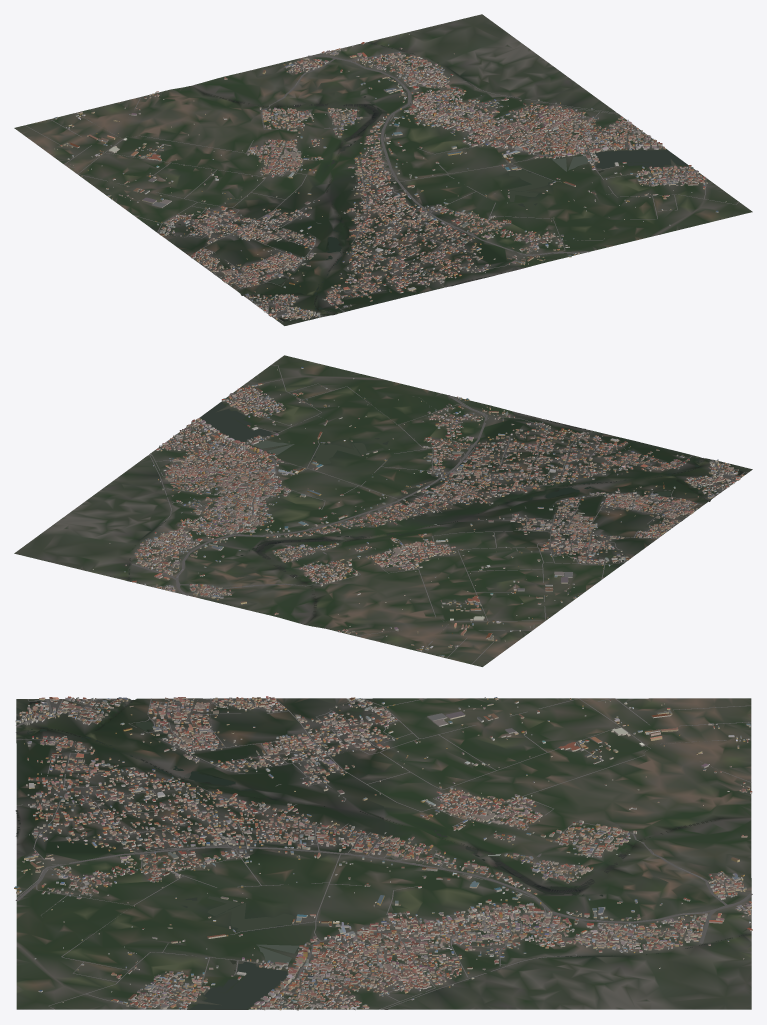
3 views of the same model, one above another, from view 1: azimuth 30°, elevation 25°; view 2: azimuth 150°, elevation 25°; view 3: azimuth 270°, elevation 25° (orthographic). The views are drawn at different scales.
Visible parts, largest first — view 1: ground, buildings, roads, water; view 2: ground, buildings, roads, water; view 3: ground, buildings, roads, water.
Boxes of the visible parts, box(x1,y1,x2,y2) form: ground: box(14, 14, 752, 325); buildings: box(54, 34, 726, 320); roads: box(25, 51, 738, 323); water: box(173, 43, 688, 321); ground: box(14, 355, 752, 666); buildings: box(92, 367, 744, 657); roads: box(132, 365, 748, 664); water: box(128, 402, 743, 617); ground: box(16, 698, 751, 1009); buildings: box(14, 696, 752, 1010); roads: box(15, 698, 752, 1009); water: box(15, 700, 746, 1009).
Size of the model in its own units: 2816 by 32.35 by 2819.
